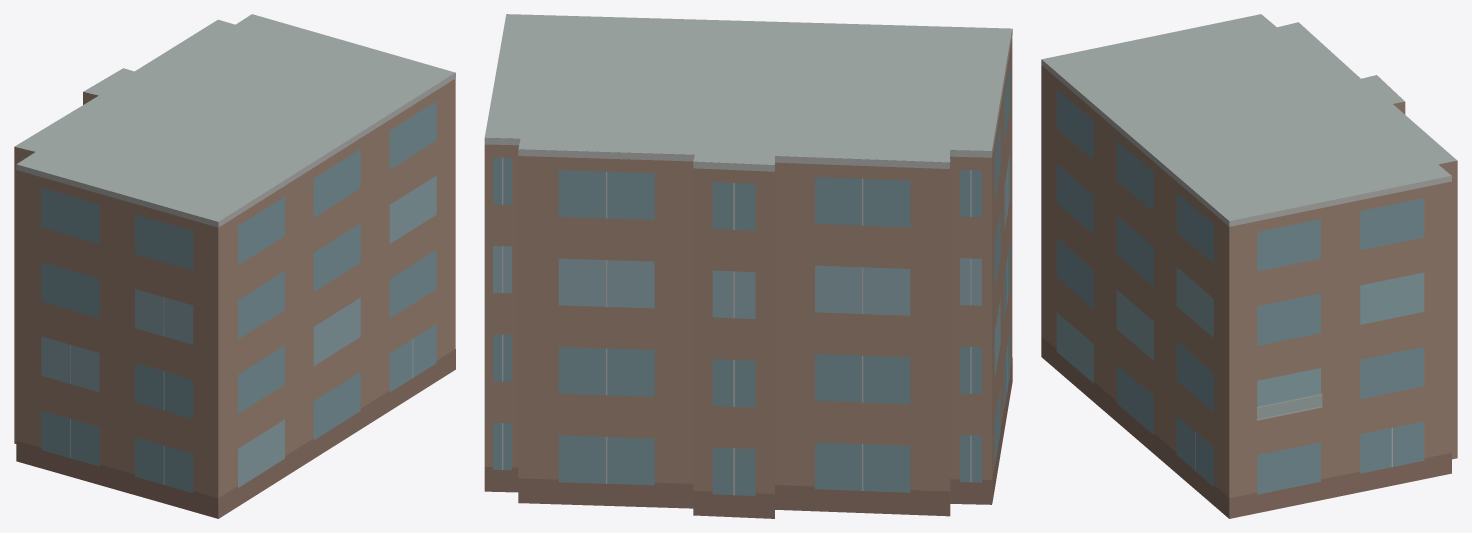
Rendered from survey-upis-32740664.glb.
3 renders of one model, left to right at view 1: azimuth 30°, elevation 25°; view 2: azimuth 150°, elevation 25°; view 3: azimuth 270°, elevation 25°, orthographic. The views are drawn at different scales.
Parts seen in each view (by area): view 1: survey-upis-32740664.tmp; view 2: survey-upis-32740664.tmp; view 3: survey-upis-32740664.tmp.
Boxes of the visible parts, x1=… form: survey-upis-32740664.tmp: x1=14, y1=14, x2=455, y2=518; survey-upis-32740664.tmp: x1=484, y1=14, x2=1012, y2=518; survey-upis-32740664.tmp: x1=1041, y1=14, x2=1457, y2=518.
Bounding box in the file's own units: 19.19 × 12.85 × 16.29.
